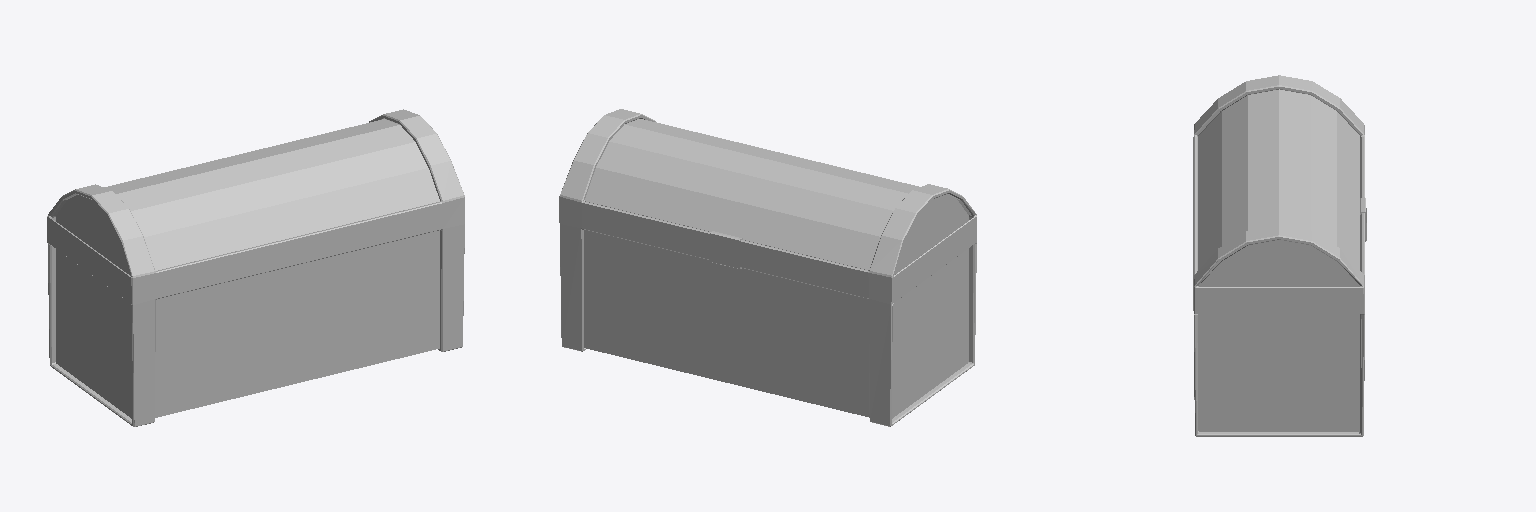
The model's file is prologue.obj.
The picture shows the model from 3 angles: view 1: azimuth 30°, elevation 25°; view 2: azimuth 150°, elevation 25°; view 3: azimuth 270°, elevation 25°; orthographic projection.
Visible parts, largest first — view 1: Куб.022_Куб.031, Куб.025_Куб.033; view 2: Куб.022_Куб.031, Куб.025_Куб.033; view 3: Куб.022_Куб.031, Куб.025_Куб.033.
Boxes of the visible parts, <box> form: Куб.022_Куб.031: <box>47,109,464,426</box>; Куб.025_Куб.033: <box>104,119,439,270</box>; Куб.022_Куб.031: <box>559,109,976,426</box>; Куб.025_Куб.033: <box>585,119,918,269</box>; Куб.022_Куб.031: <box>1193,75,1366,436</box>; Куб.025_Куб.033: <box>1198,89,1359,269</box>.
Size of the model in its own units: 3.31 by 1.91 by 1.49.